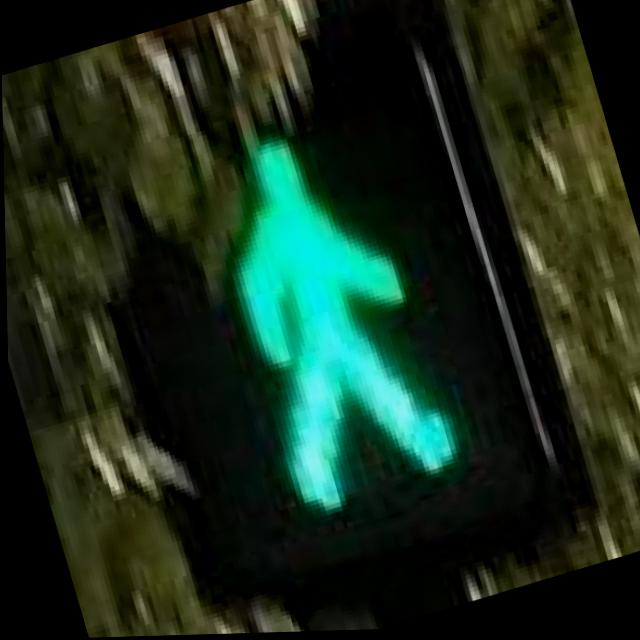green_light: (123, 58, 530, 557)
